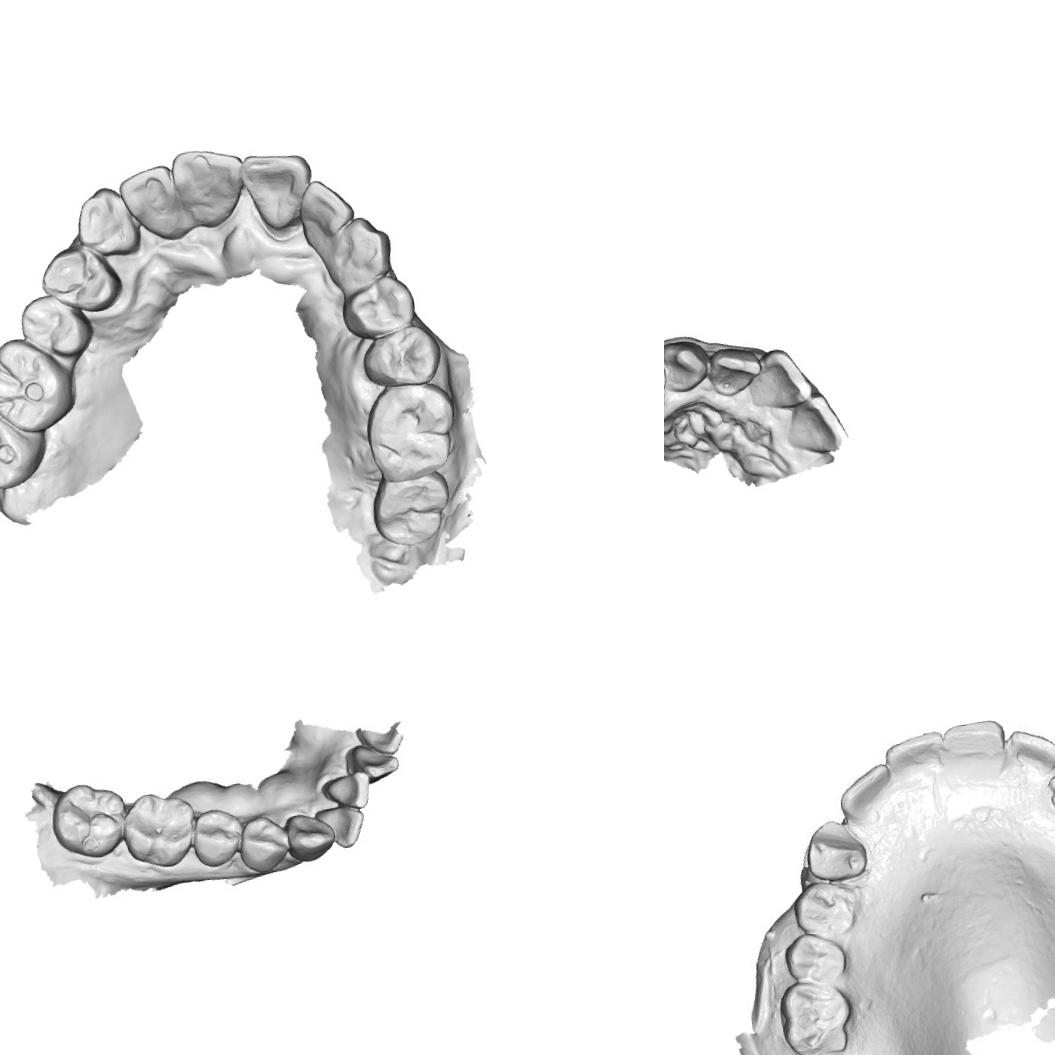canine: (321, 213, 397, 300), (70, 183, 142, 261), (802, 814, 870, 886), (281, 808, 338, 865), (664, 334, 713, 397)
incisor: (168, 142, 250, 232), (240, 147, 318, 237), (116, 161, 185, 245), (742, 341, 818, 414), (294, 173, 360, 252), (778, 392, 848, 460), (834, 760, 904, 821), (882, 728, 954, 787), (704, 341, 766, 407), (938, 718, 1013, 772), (1005, 723, 1055, 782), (312, 802, 368, 852), (344, 740, 398, 788), (320, 768, 372, 814)
molar: (359, 378, 460, 485), (0, 331, 81, 436), (47, 777, 132, 864), (367, 470, 457, 552), (118, 787, 200, 872), (776, 973, 859, 1055), (0, 399, 50, 495)
premolar: (36, 241, 124, 318), (357, 322, 443, 394), (336, 271, 422, 342), (15, 290, 94, 363), (790, 878, 859, 939), (784, 929, 852, 990), (188, 805, 246, 871), (235, 812, 294, 875)
